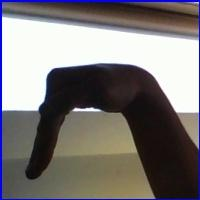A: (22, 54, 166, 176)
